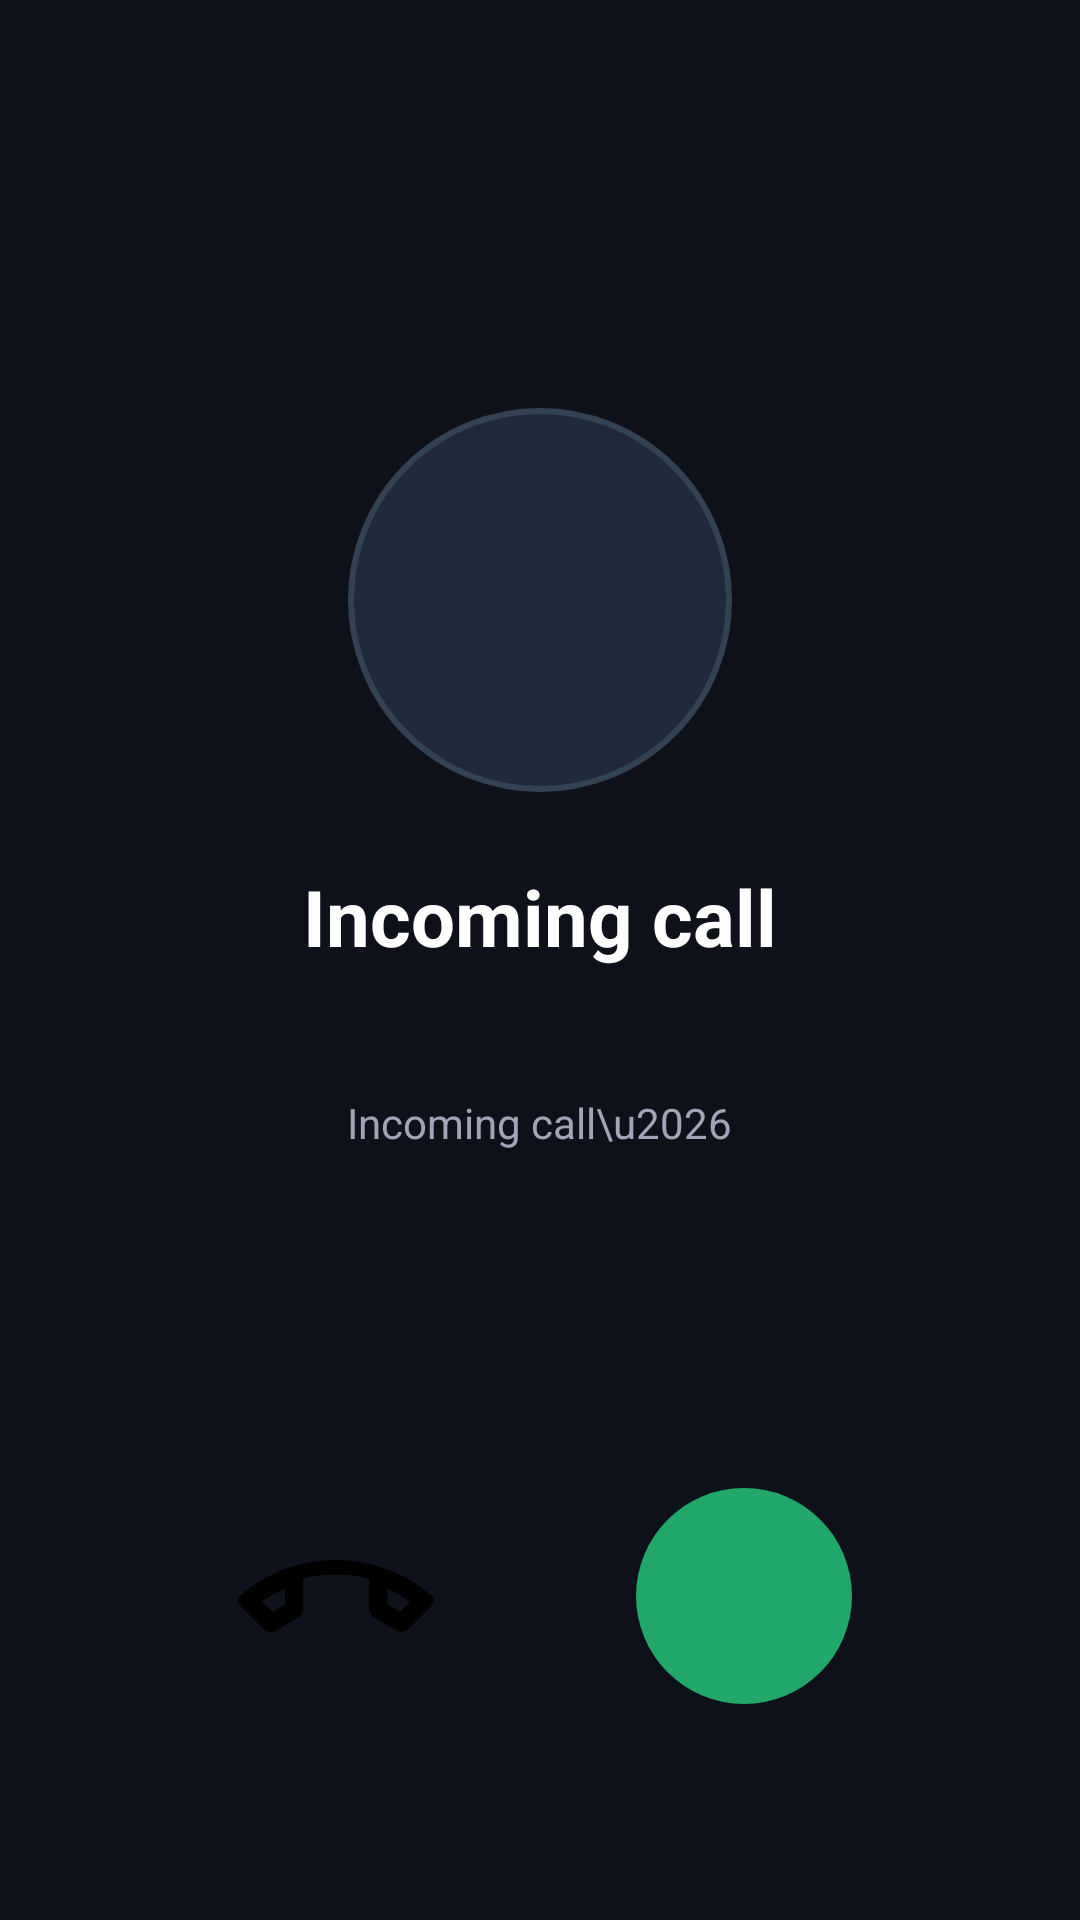

Screen size 1080x1920. Icon name, then its box in pixels as (x1, y1, x2, y2):
Decline call: (239, 1560, 433, 1632)
